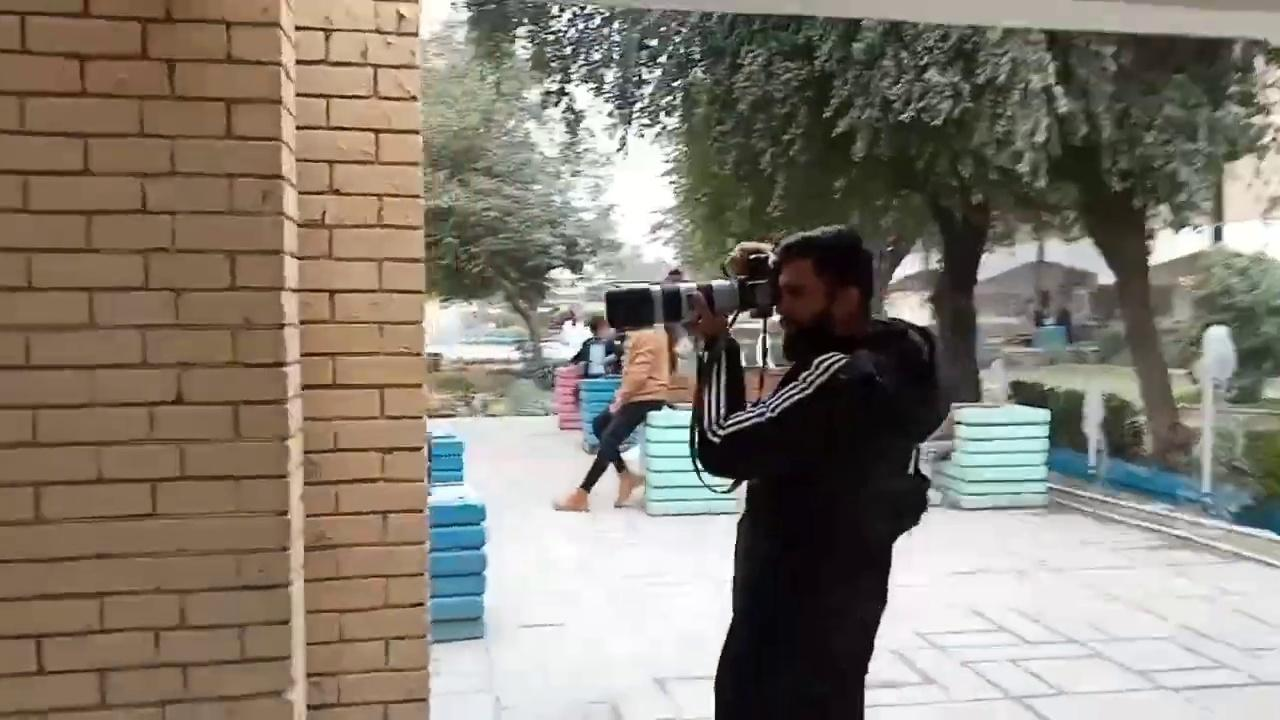fountain: (992, 320, 1276, 535), (1194, 321, 1238, 508), (1079, 385, 1107, 473)
person: (687, 224, 945, 718), (552, 321, 673, 511)
tree: (451, 2, 1278, 473), (671, 16, 1075, 419), (1011, 28, 1277, 471), (420, 8, 623, 384), (1174, 242, 1278, 405)
